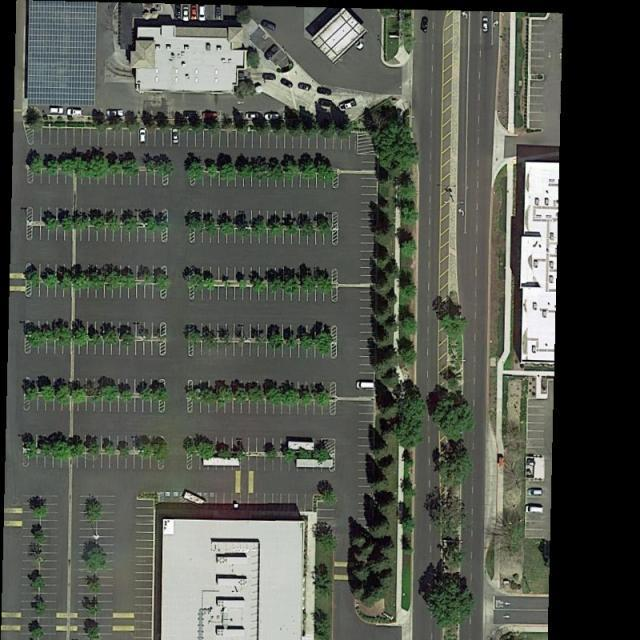vehicle: (182, 490, 208, 507), (263, 43, 282, 61), (338, 98, 358, 112), (278, 75, 296, 90), (261, 18, 276, 31), (298, 81, 312, 94), (106, 108, 124, 118), (420, 16, 430, 34), (357, 380, 375, 390), (317, 86, 333, 97), (138, 128, 148, 144), (66, 108, 83, 117), (172, 129, 181, 146), (527, 505, 544, 514), (527, 488, 544, 497), (318, 98, 334, 107), (174, 3, 183, 19), (182, 110, 199, 118), (246, 111, 261, 120), (354, 38, 365, 50), (265, 113, 281, 121), (182, 6, 190, 22), (198, 6, 206, 22), (202, 112, 218, 120), (264, 72, 278, 81), (482, 18, 489, 34), (191, 5, 198, 21), (50, 106, 64, 114), (215, 5, 222, 21)
